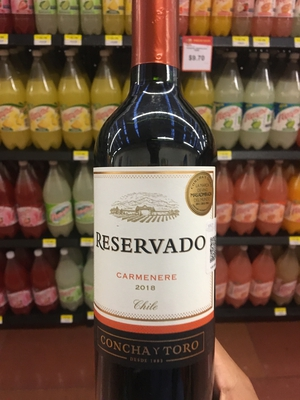reservado carmenere: (89, 6, 226, 400)
